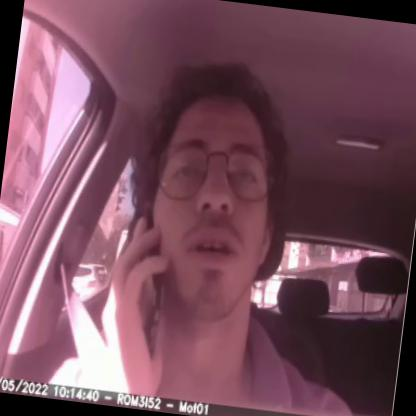phone: (108, 202, 185, 361)
